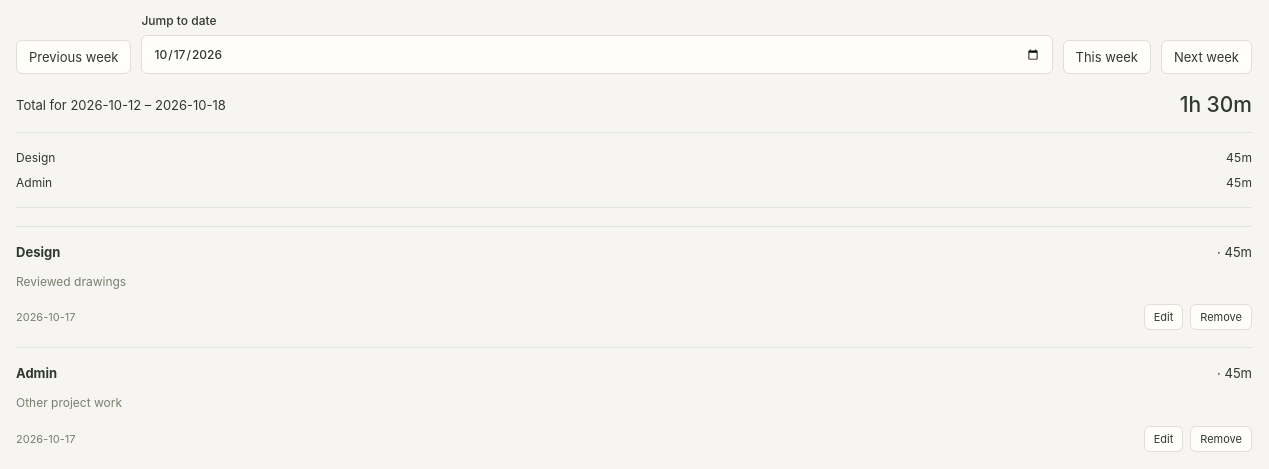
it: browses all projects by week and jumps to historical dates
Expected: the text "Other project work" is shown, x1=16 y1=395 x2=122 y2=410
Expected: the text "Next week task" is not shown
Click the button "Next week". click: (1206, 57)
box: x1=1161 y1=40 x2=1252 y2=74
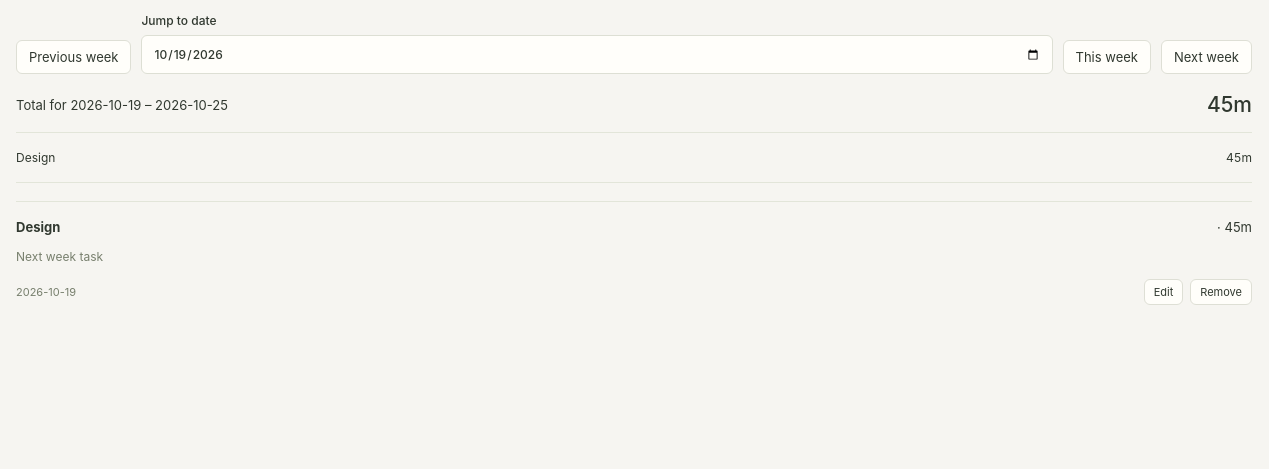
Result: the text "Next week task" is shown at x1=16 y1=249 x2=103 y2=264
Result: the text "Other project work" is gone
Type "2026-10-17" into the date field labelled "Jump to date". click: (597, 54)
box: x1=142 y1=35 x2=1052 y2=74
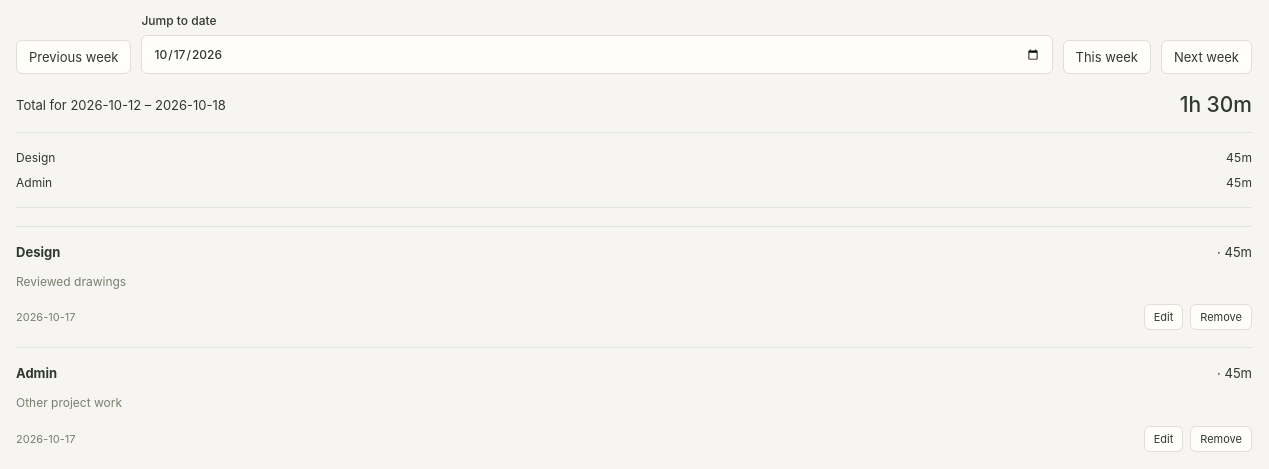
Result: the text "Other project work" is shown at x1=16 y1=395 x2=122 y2=410
